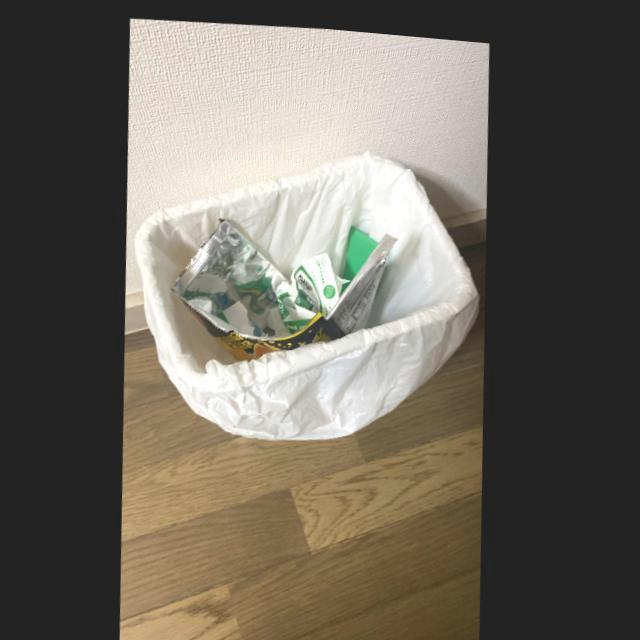cardboard: (341, 218, 380, 290)
food_wrapper: (175, 216, 399, 356)
paper: (278, 246, 353, 326)
